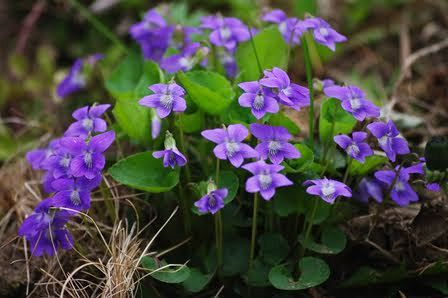violet: (14, 199, 70, 263), (202, 118, 262, 177), (134, 70, 197, 125), (243, 69, 311, 117), (365, 166, 424, 215), (61, 127, 114, 179), (337, 76, 379, 127), (368, 114, 412, 160), (245, 155, 290, 198), (305, 171, 349, 206), (337, 128, 369, 167), (155, 144, 190, 177)
